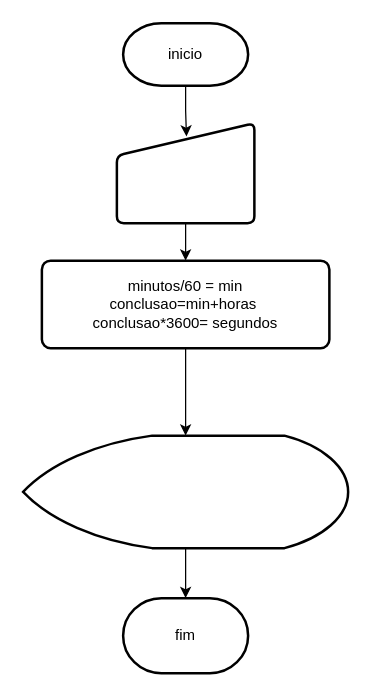
This 370x695 diagram has some shape labels left out. Here are the shapes that lost their labels. From the top down, the centre of each, then its label:
[185,172]: horas minutos
[185,491]: "O resultado em segundos é":, segundos
